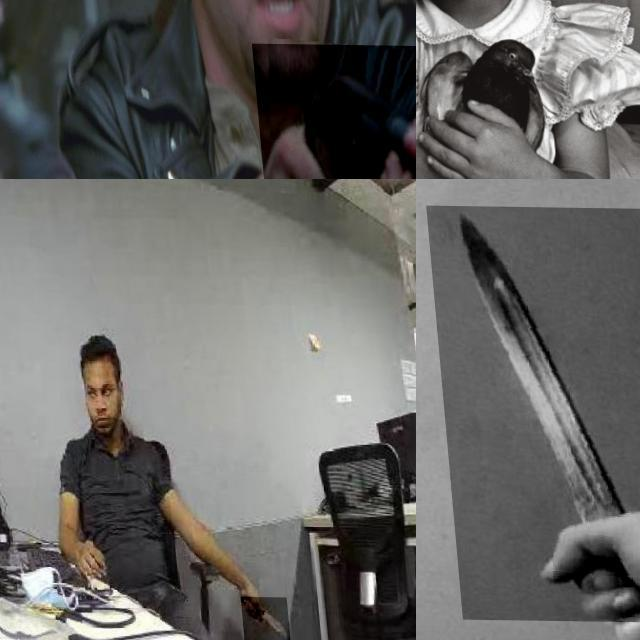-: (425, 205, 640, 621), (230, 595, 279, 640)
gun-knife-thesis - v11 Yolov5 augmented: (246, 42, 416, 179)
